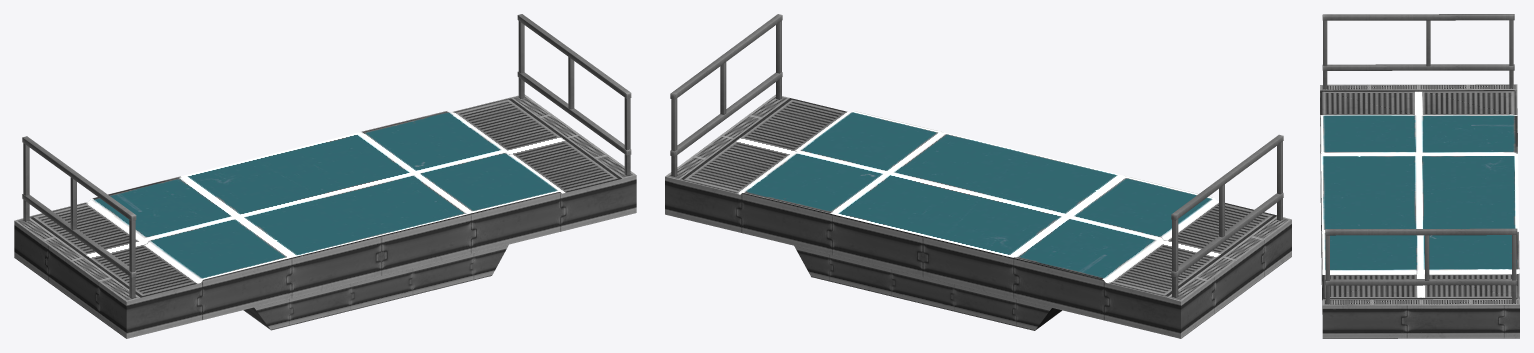
The model's file is ARC1110018.fbx.
3 views of the same model, side by side, from view 1: azimuth 30°, elevation 25°; view 2: azimuth 150°, elevation 25°; view 3: azimuth 270°, elevation 25° (orthographic). The views are drawn at different scales.
Parts seen in each view (by area): view 1: smARC1110018; view 2: smARC1110018; view 3: smARC1110018.
Part boxes in pixels (x1,y1,x2,y2): smARC1110018: (14, 14, 636, 338); smARC1110018: (665, 14, 1291, 338); smARC1110018: (1320, 14, 1519, 338).
Size of the model in its own units: 530 by 145 by 202.
Materials: 1 (1 with a texture image).
